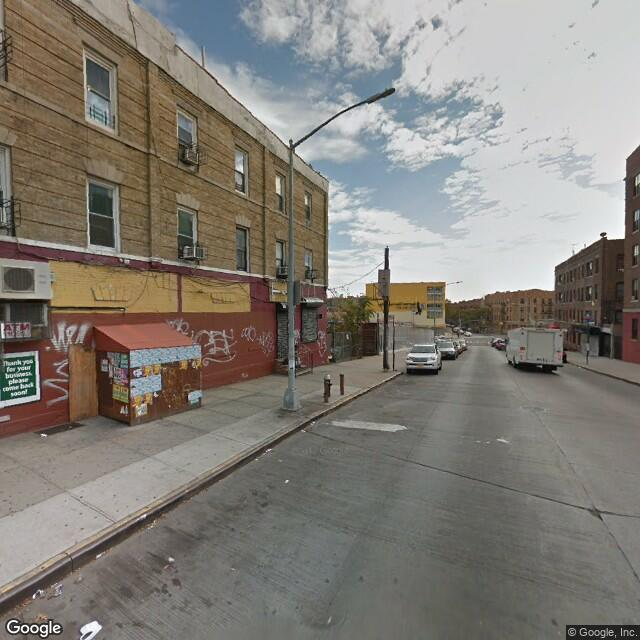litter: (75, 623, 104, 640), (50, 583, 64, 601), (29, 588, 41, 600), (92, 549, 106, 557), (38, 429, 49, 438), (297, 428, 308, 435), (164, 556, 173, 564), (75, 574, 85, 581), (65, 423, 74, 429), (274, 457, 284, 462), (265, 448, 273, 454), (251, 454, 259, 460), (282, 477, 290, 483), (311, 418, 317, 423)
